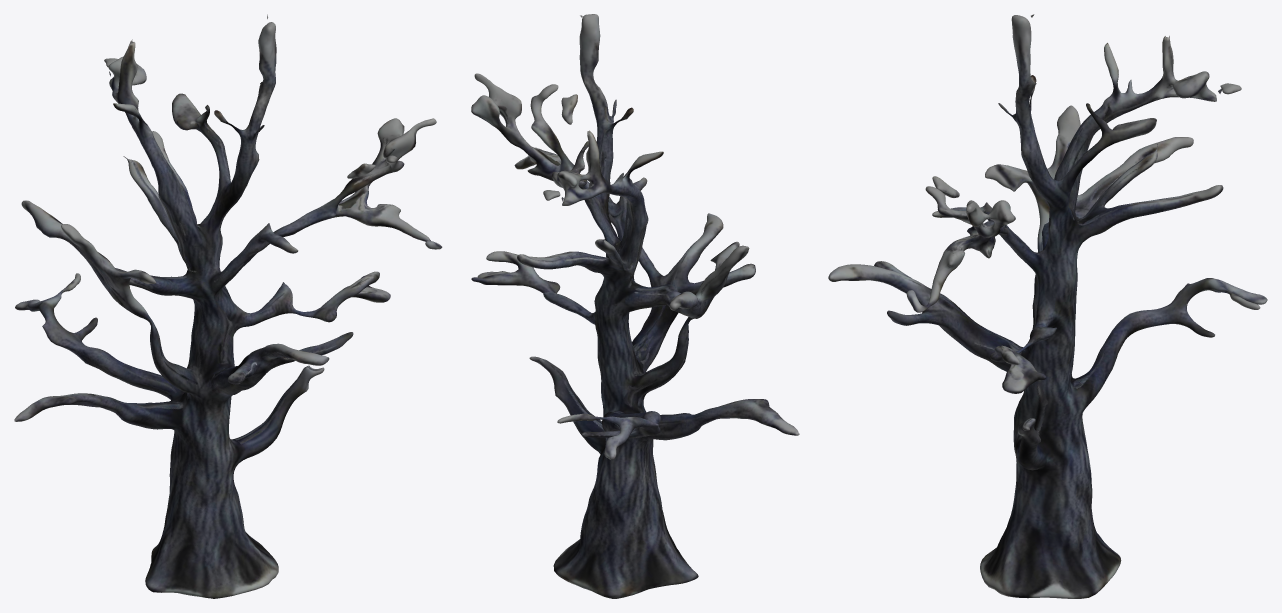
The model's file is 3b90b78d5986_fully_grey_dead_spo.fbx.
3 renders of one model, left to right at view 1: azimuth 30°, elevation 25°; view 2: azimuth 150°, elevation 25°; view 3: azimuth 270°, elevation 25°, orthographic. The views are drawn at different scales.
Visible parts, largest first — view 1: mesh; view 2: mesh; view 3: mesh.
Boxes of the visible parts, x1,y1,x2,y2 form: mesh: (14, 14, 442, 598); mesh: (471, 14, 799, 598); mesh: (828, 14, 1267, 598).
Bounding box in the file's own units: 71.38 × 99.86 × 67.86.
